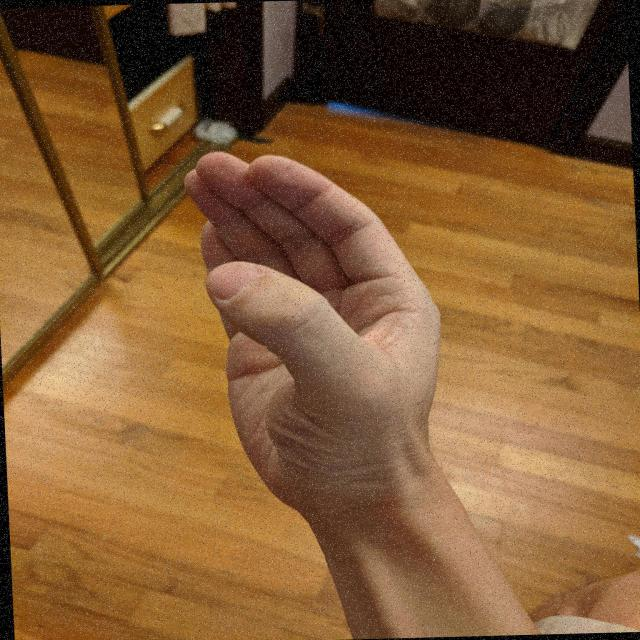C: (168, 138, 461, 532)
